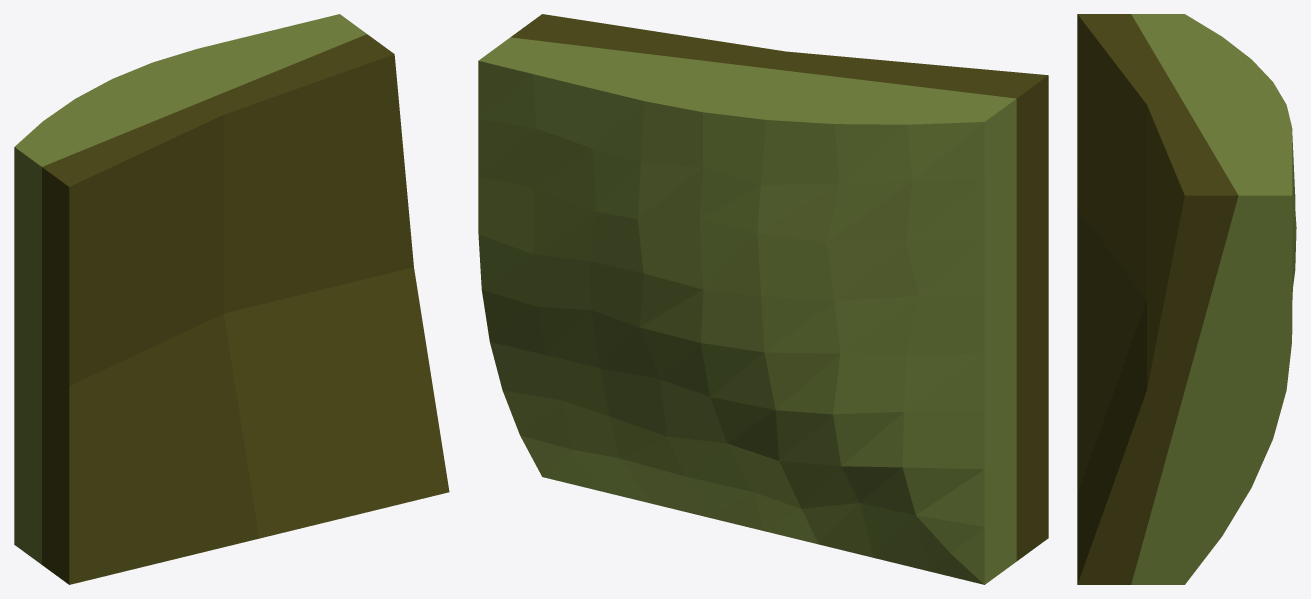
File: Slope_Top_Up_Corner.fbx
3 views of the same model, side by side, from view 1: azimuth 30°, elevation 25°; view 2: azimuth 150°, elevation 25°; view 3: azimuth 270°, elevation 25° (orthographic). The views are drawn at different scales.
Visible parts, largest first — view 1: Slope_Top_Up_Corner; view 2: Slope_Top_Up_Corner; view 3: Slope_Top_Up_Corner.
Part boxes in pixels (<box>): Slope_Top_Up_Corner: <box>14,14,449,584</box>; Slope_Top_Up_Corner: <box>478,14,1048,584</box>; Slope_Top_Up_Corner: <box>1077,14,1296,584</box>.
Size of the model in its own units: 400 by 400 by 204.
